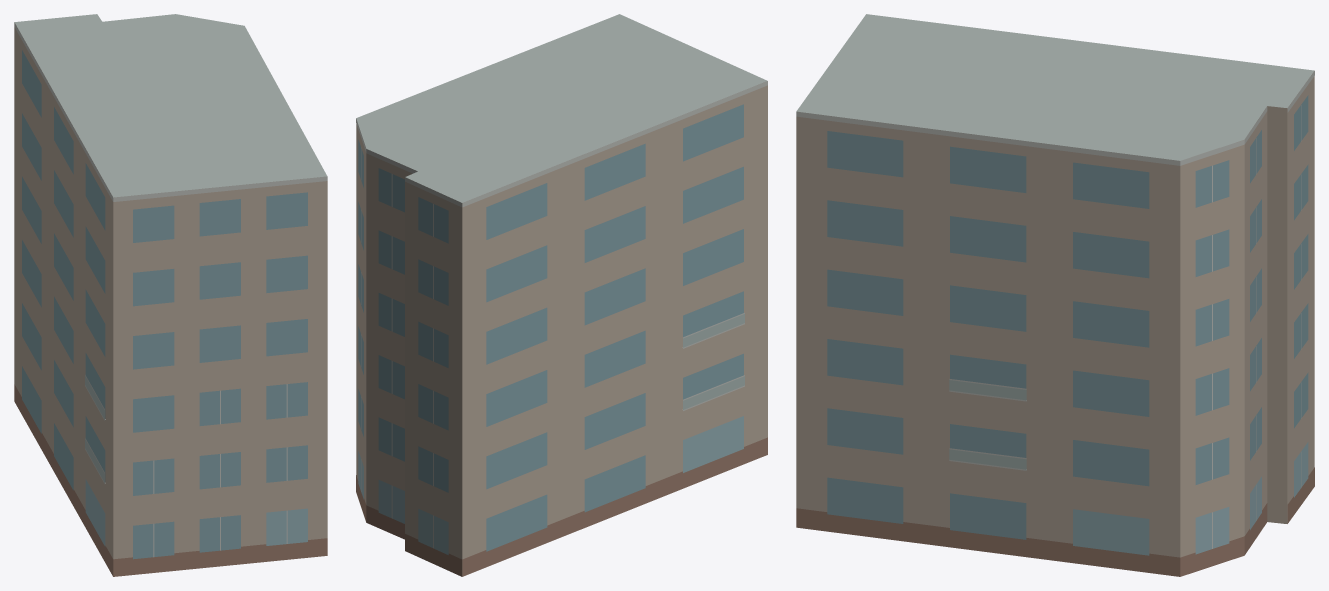
Rendered from survey-upis-32875290.glb.
3 renders of one model, left to right at view 1: azimuth 30°, elevation 25°; view 2: azimuth 150°, elevation 25°; view 3: azimuth 270°, elevation 25°, orthographic. The views are drawn at different scales.
Parts seen in each view (by area): view 1: survey-upis-32875290.tmp; view 2: survey-upis-32875290.tmp; view 3: survey-upis-32875290.tmp.
Part boxes in pixels (left/top/right/bottom): survey-upis-32875290.tmp: left=14, top=14, right=327, bottom=576; survey-upis-32875290.tmp: left=356, top=14, right=767, bottom=576; survey-upis-32875290.tmp: left=796, top=14, right=1314, bottom=576.
Size of the model in its own units: 15.31 by 20.2 by 22.83.
